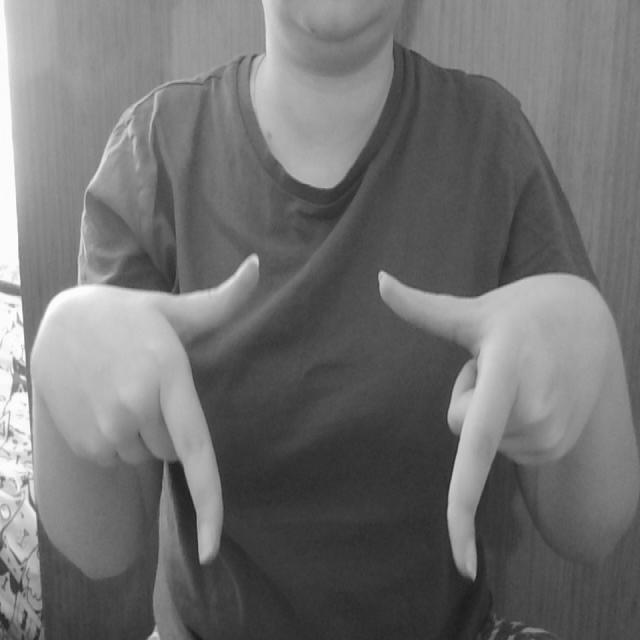Nerede: (149, 249, 525, 583)
